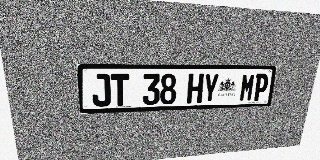3: (143, 74, 160, 105)
8: (160, 74, 177, 104)
H: (187, 74, 204, 103)
J: (91, 74, 111, 107)
M: (239, 74, 256, 102)
P: (252, 74, 269, 101)
T: (111, 74, 129, 106)
Y: (202, 74, 219, 103)
